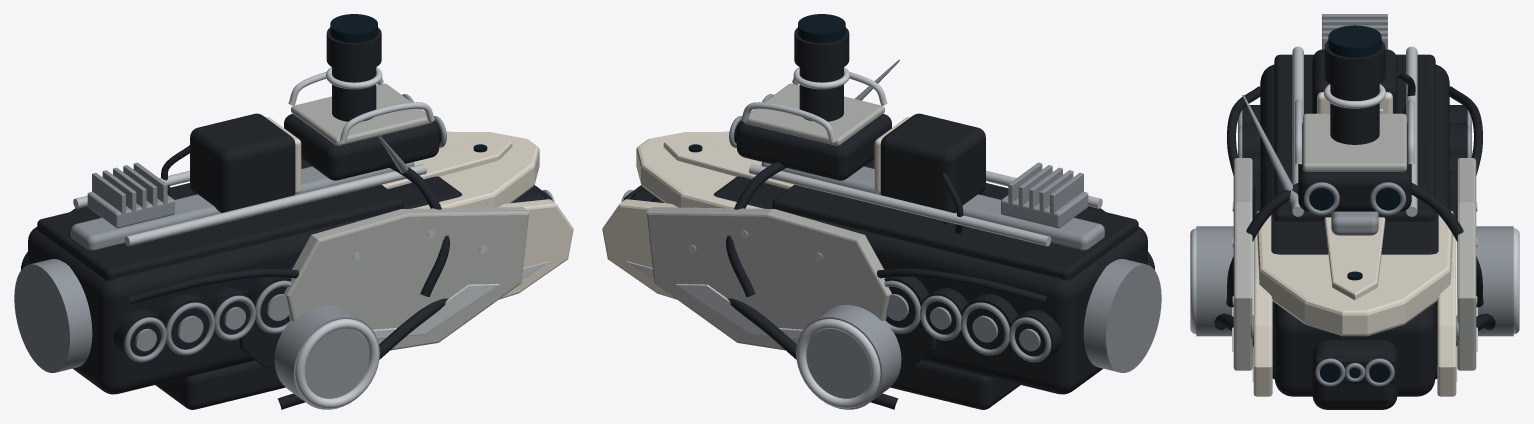
3 views of the same model, side by side, from view 1: azimuth 30°, elevation 25°; view 2: azimuth 150°, elevation 25°; view 3: azimuth 270°, elevation 25° (orthographic). The views are drawn at different scales.
Parts seen in each view (by area): view 1: base_link; view 2: base_link; view 3: base_link.
Part boxes in pixels (x1,y1,x2,y2): base_link: (14,14,573,409); base_link: (602,14,1161,409); base_link: (1190,14,1519,409).
Size of the model in its own units: 0.6675 by 0.416 by 0.348.
